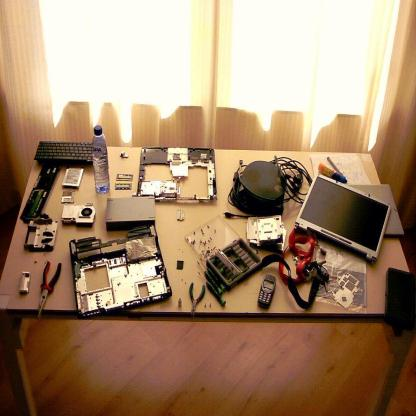board: (295, 169, 395, 262), (37, 261, 61, 318), (92, 125, 111, 193), (197, 270, 226, 306), (197, 261, 223, 294), (200, 257, 226, 290), (188, 284, 207, 314)
